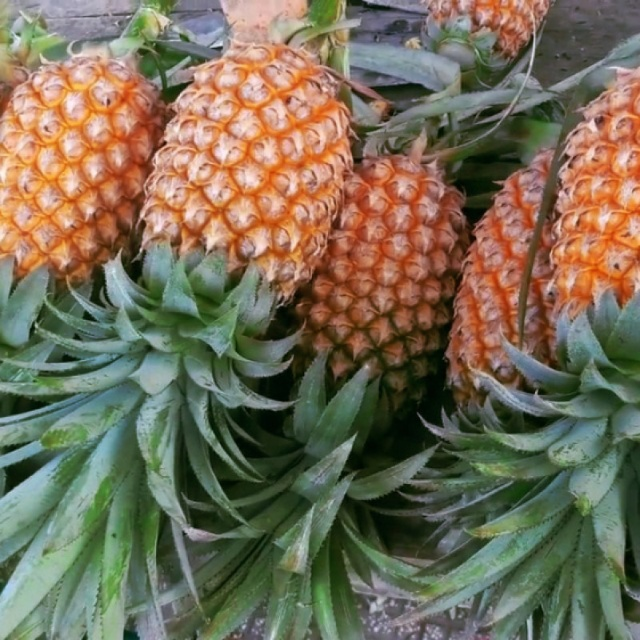thom: (137, 33, 354, 338), (294, 143, 465, 431), (5, 51, 160, 308)
